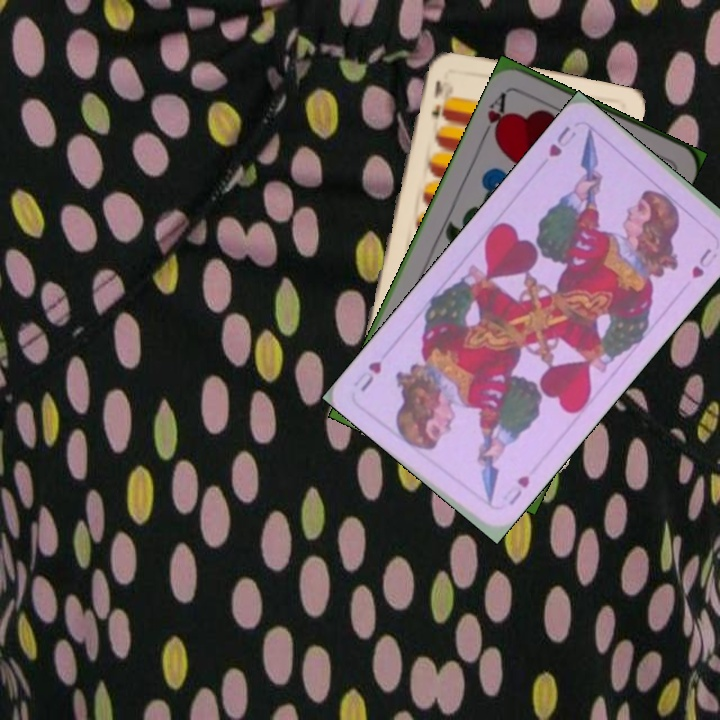E10: (427, 76, 445, 122)
HA: (478, 85, 513, 143)
HU: (544, 121, 579, 160), (504, 471, 533, 509)
